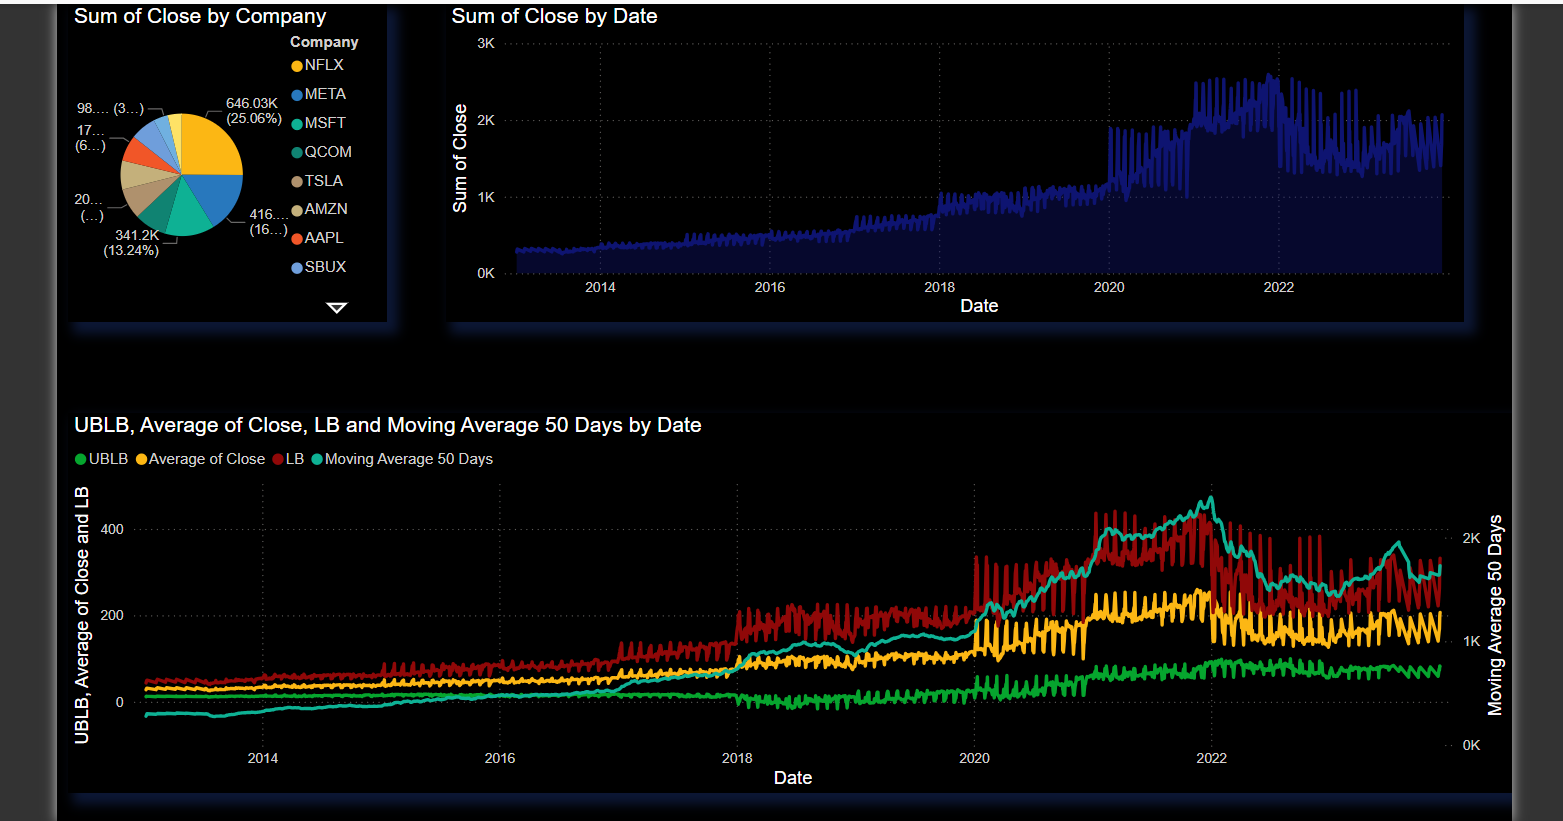

Layout of this report page (visuals, bound fields, positions):
{"tool":"powerbi","page":{"name":"look Price","canvas":[1280,720],"ordinal":1},"visuals":[{"type":"pieChart","fields":{"Category":["Stocks_Data.Company"],"Y":["Sum(Stocks_Data.Close)"]},"box":[10,0,280,280],"z":0},{"type":"lineChart","fields":{"Y":["Stocks_Data.UBLB","Avg(Stocks_Data.Close)","Stocks_Data.LB"],"Category":["Stocks_Data.Date"],"Y2":["Stocks_Data.Moving Average 50 Days"]},"box":[10.1,359.4,1269.6,334.8],"z":1000},{"type":"areaChart","fields":{"Category":["Stocks_Data.Date"],"Y":["Sum(Stocks_Data.Close)"]},"box":[342,0,895.7,279.7],"z":2000}]}

Visuals, with their boxes on the page's 1280x720 design canvas (x1, y1, x2, y2). These are canvas units, not pixel positions in the 1563x821 screenshot, which may show the page scaled, cropped or inside an application window:
pieChart - Stocks_Data.Company x Sum(Stocks_Data.Close): pyautogui.locateOnScreen(10, 0, 290, 280)
lineChart - Stocks_Data.UBLB x Avg(Stocks_Data.Close): pyautogui.locateOnScreen(10, 359, 1280, 694)
areaChart - Stocks_Data.Date x Sum(Stocks_Data.Close): pyautogui.locateOnScreen(342, 0, 1238, 280)
